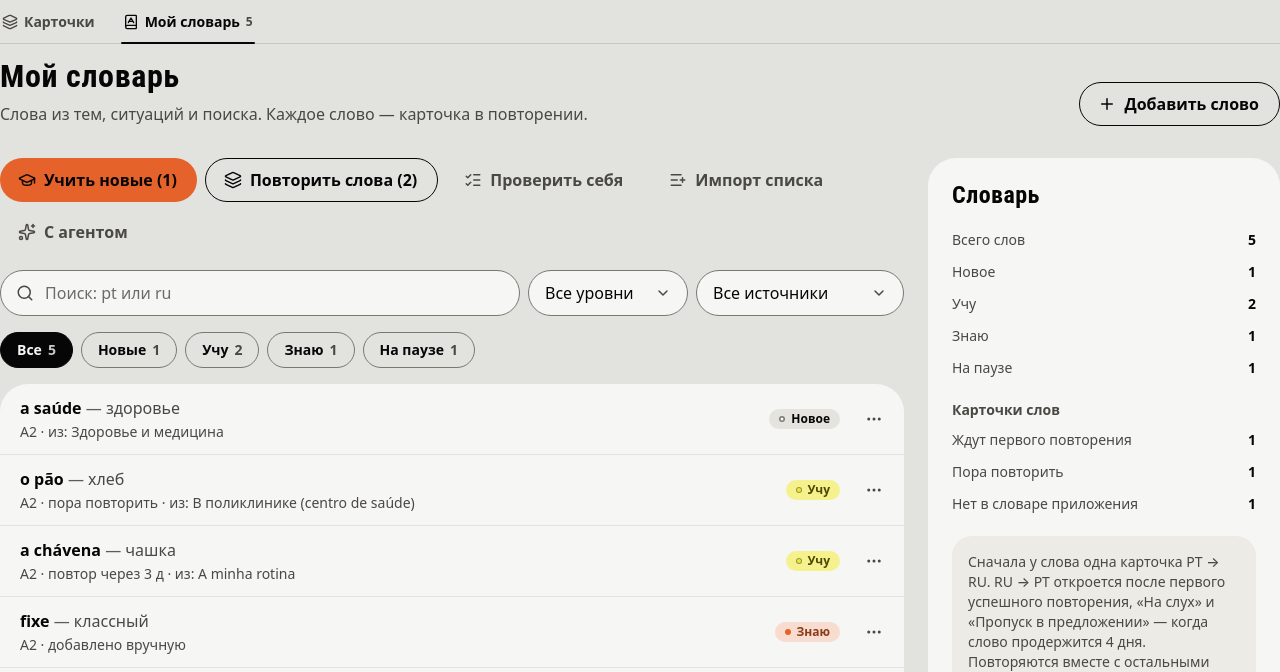
Test: WordsPage · list and panel › learn / review actions: «Учить новые (1)» sets ?learn=1, «Повторить слова (N)» links to the words deck
Expected: the link "Мой словарь 5" is shown, [123, 12, 253, 31]
Click the button "Учить новые (1)": (98, 180) [0, 158, 197, 202]
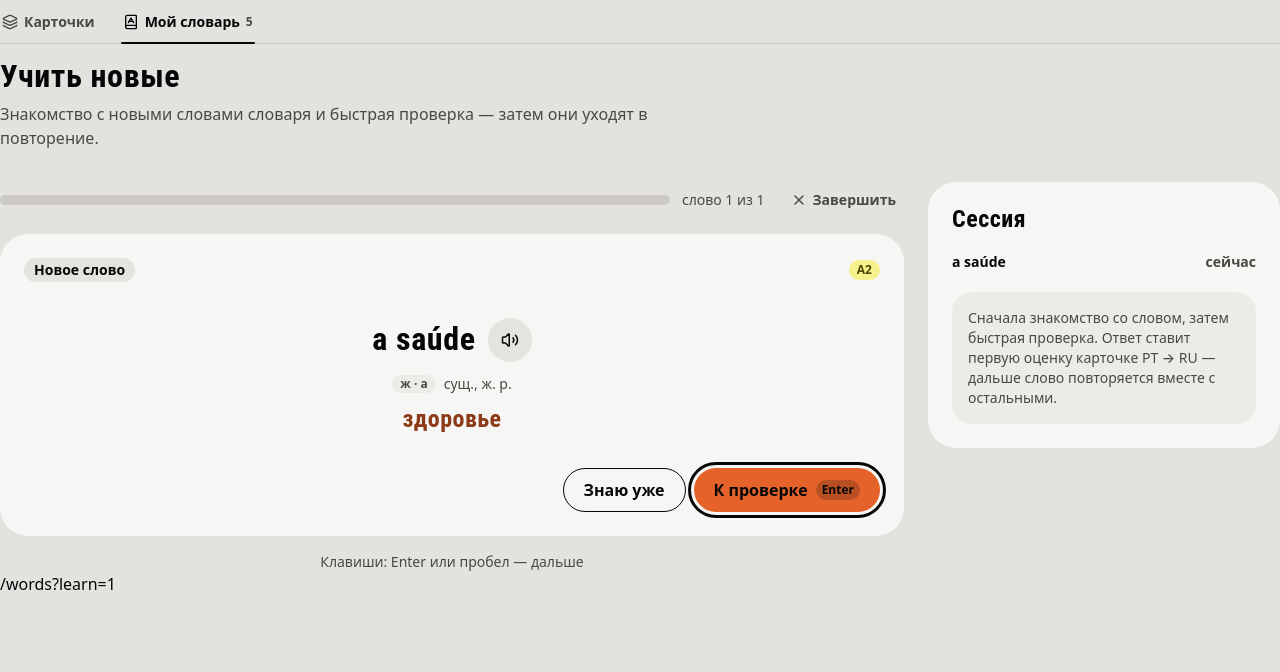
Expected: the text named "url" reads "/words?learn=1", [0, 573, 116, 595]
Expected: the heading "Учить новые" is shown, [0, 57, 180, 95]
